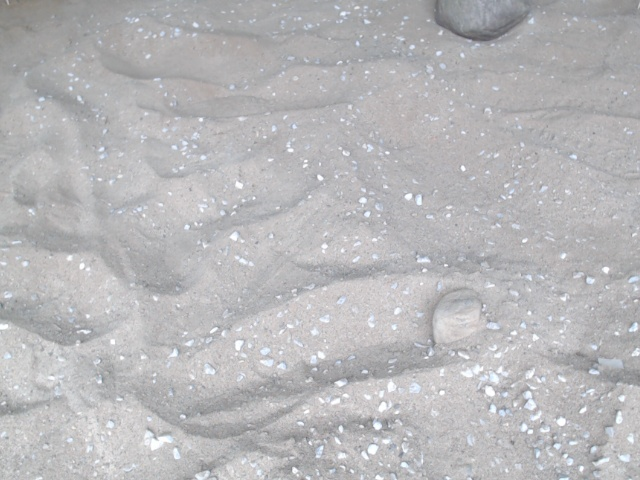rock: (430, 1, 535, 47), (424, 284, 489, 352)
